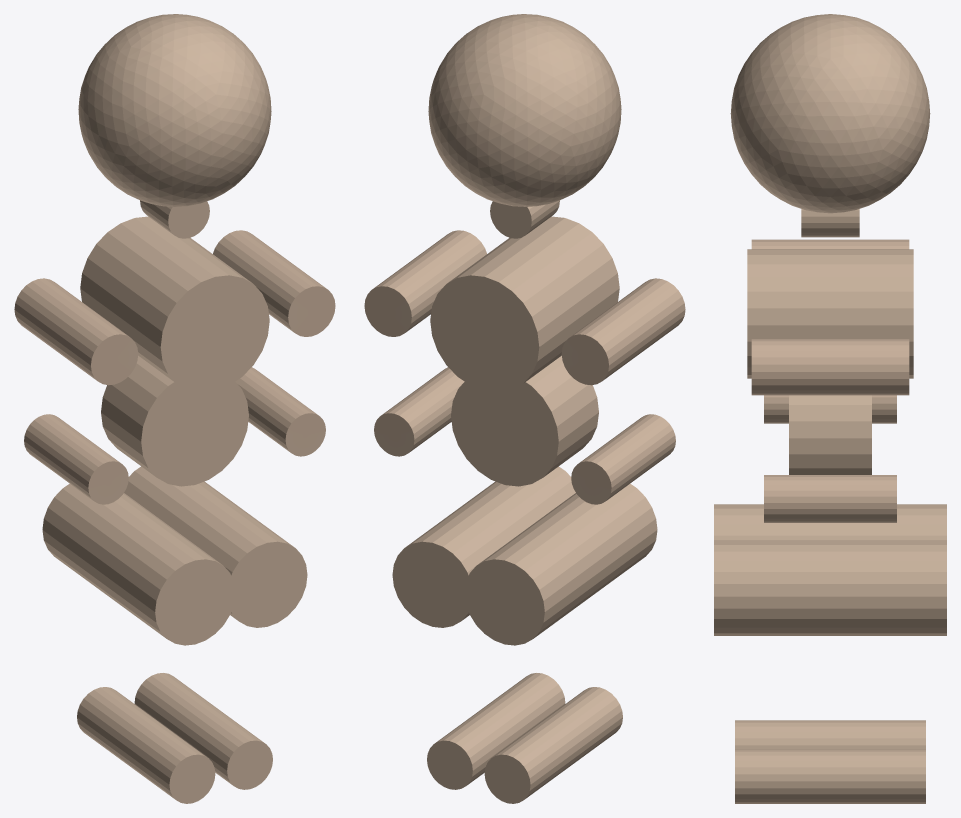
File: tsUXGMYcecVi5HMlGj2gvQJrZze2_2026-02-27.glb
3 views of the same model, side by side, from view 1: azimuth 30°, elevation 25°; view 2: azimuth 150°, elevation 25°; view 3: azimuth 270°, elevation 25° (orthographic). The views are drawn at different scales.
Parts seen in each view (by area): view 1: world; view 2: world; view 3: world.
Boxes of the visible parts, x1,y1,x2,y2 form: world: (14,14,335,803); world: (364,14,685,803); world: (714,14,946,803).
Bounding box in the file's own units: 0.5898 × 1.7 × 0.4704.
